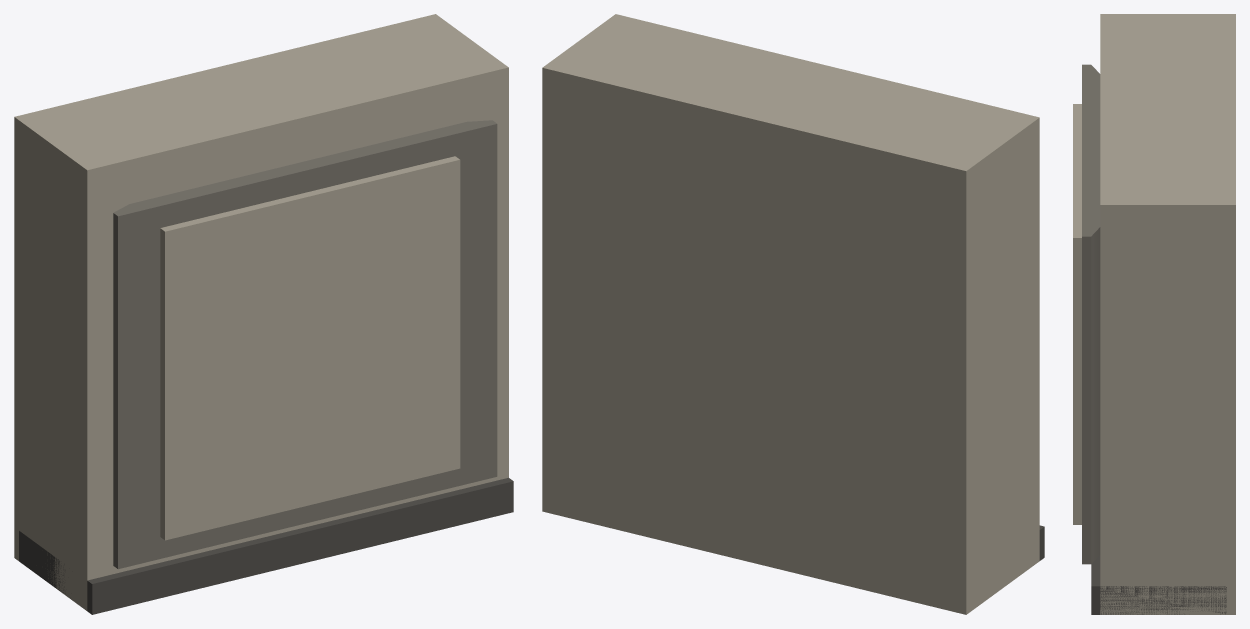
The model's file is civilian_wall.glb.
3 renders of one model, left to right at view 1: azimuth 30°, elevation 25°; view 2: azimuth 150°, elevation 25°; view 3: azimuth 270°, elevation 25°, orthographic. The views are drawn at different scales.
Parts seen in each view (by area): view 1: civilian_wall; view 2: civilian_wall; view 3: civilian_wall.
Boxes of the visible parts, left/top/right/bottom form: civilian_wall: left=14, top=14, right=513, bottom=614; civilian_wall: left=542, top=14, right=1044, bottom=614; civilian_wall: left=1073, top=14, right=1235, bottom=614.
Size of the model in its own units: 1 by 1 by 0.36.
